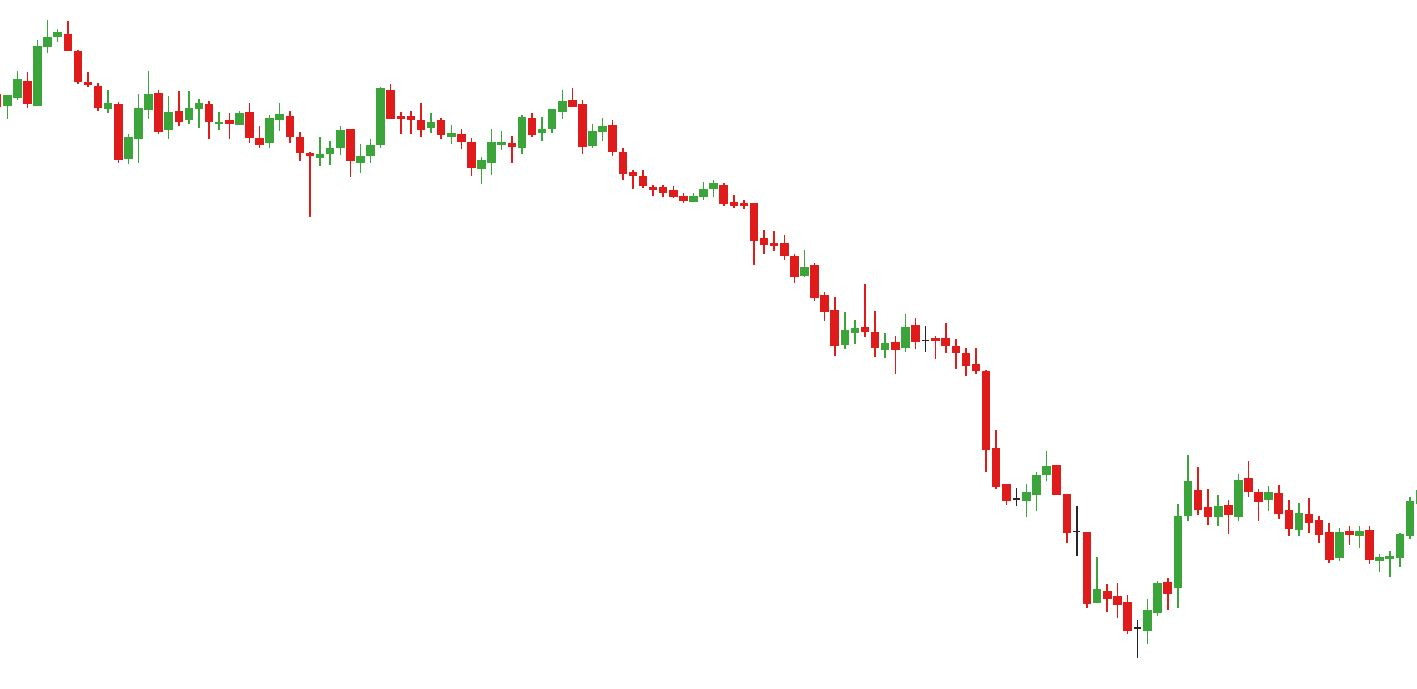sell: (1192, 456, 1256, 511)
